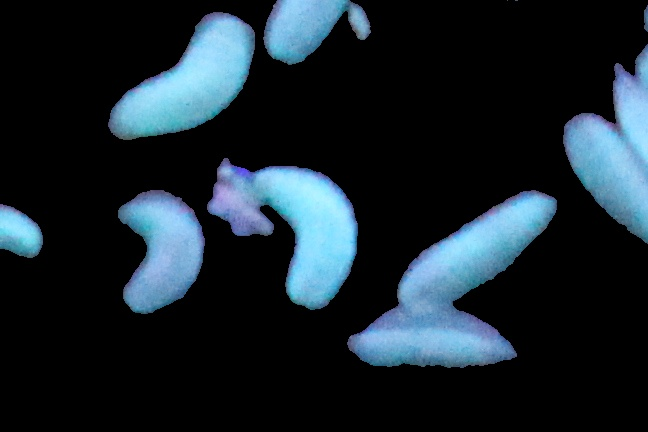larvae: (395, 194, 558, 309), (108, 13, 249, 142), (249, 172, 358, 315), (565, 109, 648, 245), (122, 188, 203, 317), (264, 1, 374, 65), (349, 325, 516, 367), (1, 199, 43, 265)
